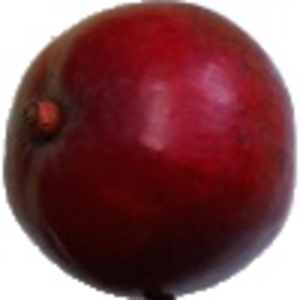manga: (3, 1, 298, 300)
